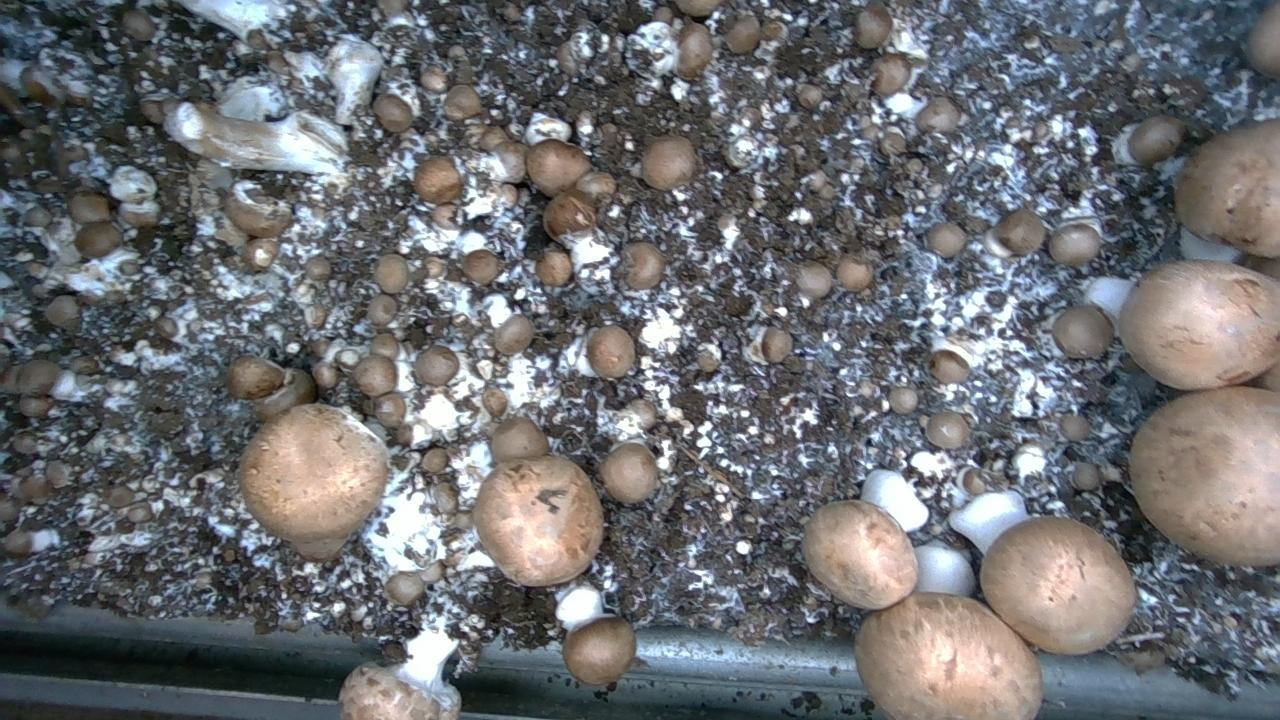BB: (1130, 386, 1279, 565), (855, 592, 1042, 719), (239, 404, 388, 559), (980, 516, 1135, 654), (1118, 260, 1279, 389), (473, 456, 603, 585), (1175, 119, 1279, 257), (802, 500, 917, 609), (563, 616, 635, 684), (224, 181, 292, 237), (526, 139, 590, 197), (598, 443, 656, 503), (254, 368, 316, 421), (1052, 305, 1113, 357), (642, 135, 695, 190), (490, 417, 549, 462), (543, 190, 596, 239), (1247, 0, 1279, 79), (227, 355, 284, 399), (587, 325, 634, 377), (414, 156, 463, 204), (994, 209, 1045, 255), (1048, 223, 1101, 266), (621, 242, 665, 289), (676, 23, 712, 79), (353, 353, 396, 396), (74, 221, 122, 258), (414, 346, 458, 385), (872, 53, 910, 96), (493, 314, 533, 354), (372, 93, 413, 132), (926, 411, 969, 448), (855, 4, 891, 48), (17, 359, 60, 395), (916, 98, 960, 132), (384, 571, 424, 606), (725, 16, 761, 54), (373, 254, 408, 293), (462, 249, 500, 284), (68, 191, 109, 223), (444, 84, 481, 119), (928, 223, 966, 257), (930, 350, 969, 383), (536, 250, 572, 285), (796, 262, 831, 298), (836, 256, 872, 290), (119, 199, 159, 227), (243, 238, 278, 270), (761, 326, 792, 362), (374, 393, 405, 427), (122, 10, 155, 41), (367, 294, 397, 326), (1060, 413, 1090, 441), (419, 65, 449, 92), (370, 332, 399, 359), (482, 387, 508, 417), (675, 0, 720, 17), (421, 447, 448, 474), (45, 461, 72, 488), (889, 387, 917, 413), (376, 0, 409, 17), (70, 356, 99, 374)
